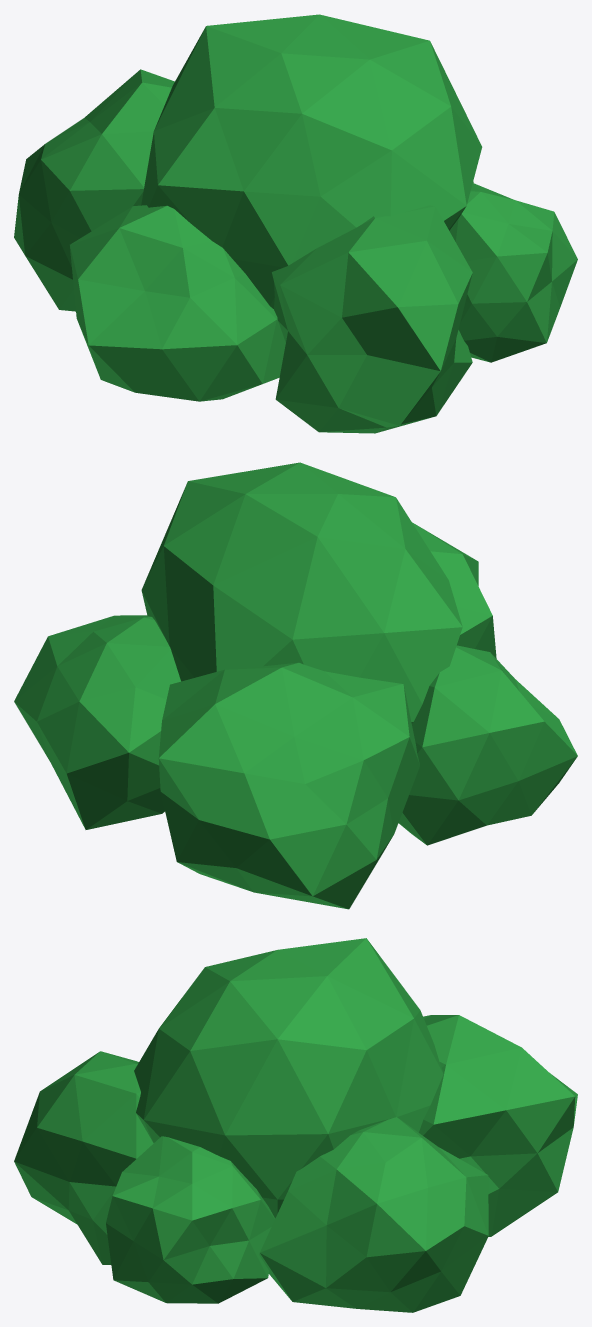
The model's file is bush.glb.
The picture shows the model from 3 angles, top to bottom: view 1: azimuth 30°, elevation 25°; view 2: azimuth 150°, elevation 25°; view 3: azimuth 270°, elevation 25°; orthographic projection. The views are drawn at different scales.
Parts seen in each view (by area): view 1: Icosphere.002; view 2: Icosphere.002; view 3: Icosphere.002.
Part boxes in pixels (left/top/right/bottom): Icosphere.002: left=14, top=14, right=577, bottom=433; Icosphere.002: left=14, top=462, right=577, bottom=909; Icosphere.002: left=14, top=938, right=577, bottom=1312.
Bounding box in the file's own units: 4.39 × 3.06 × 5.05.
